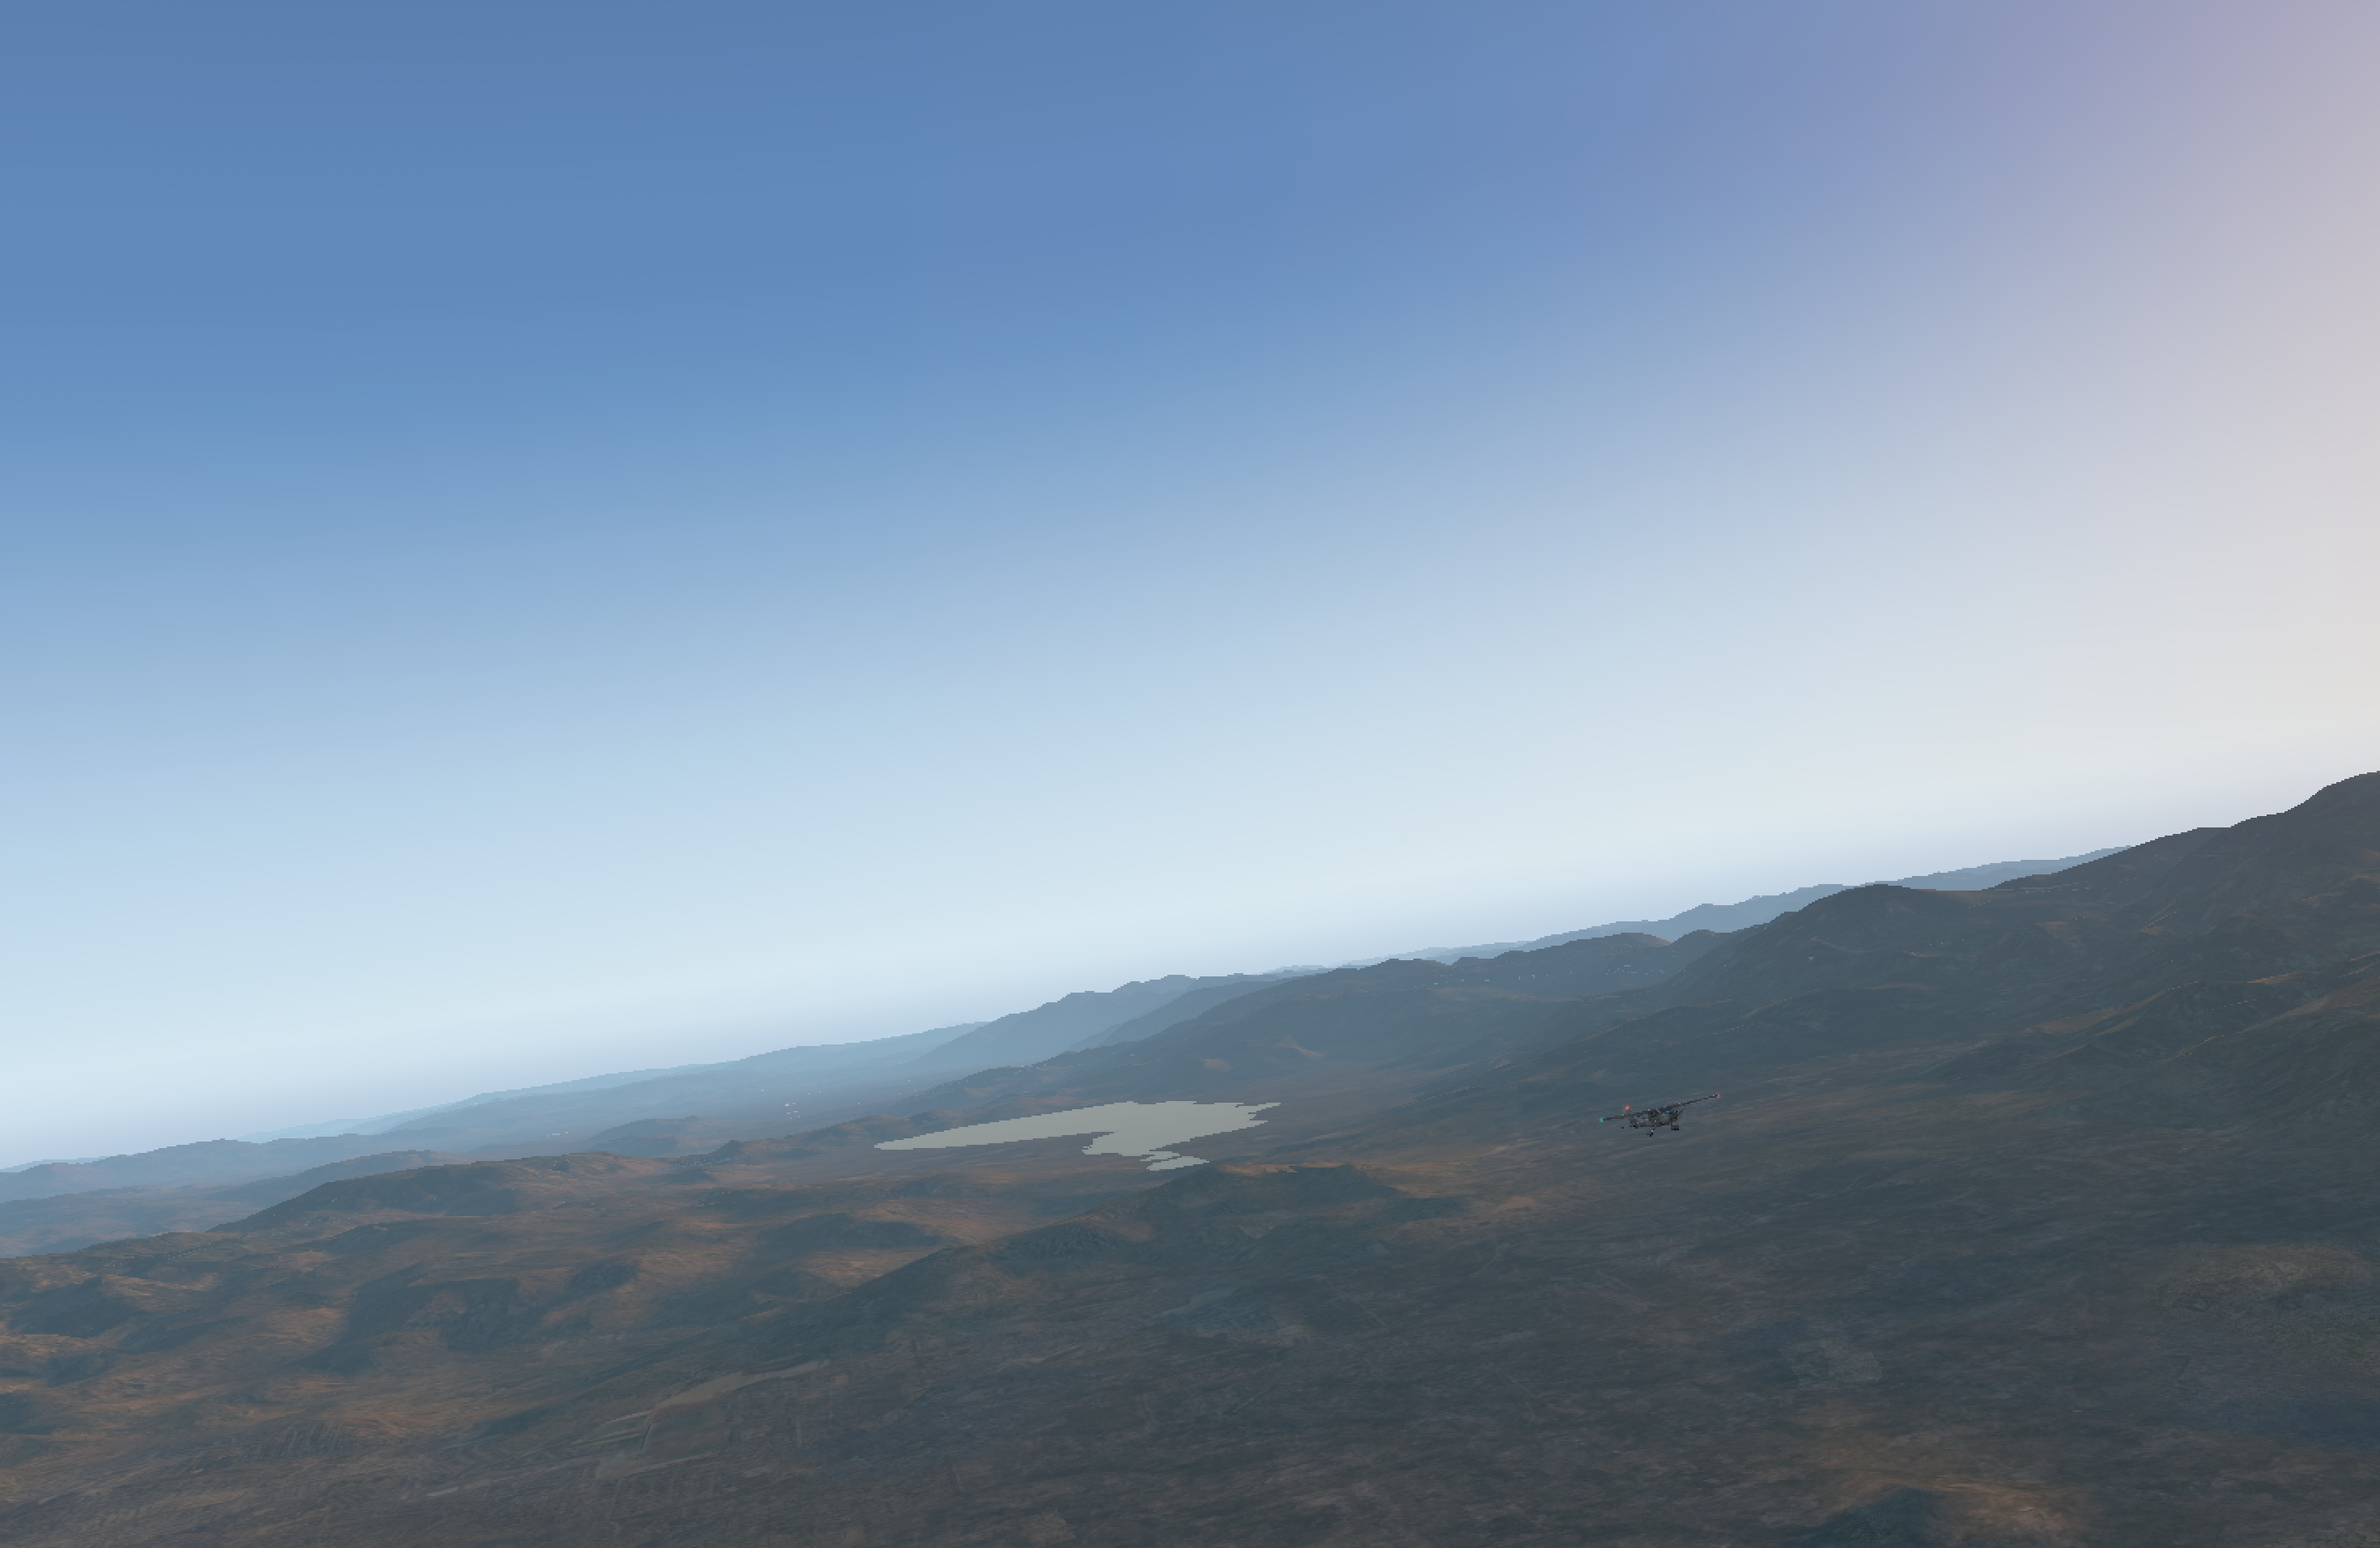aircraft: (1615, 1099, 1709, 1133)
